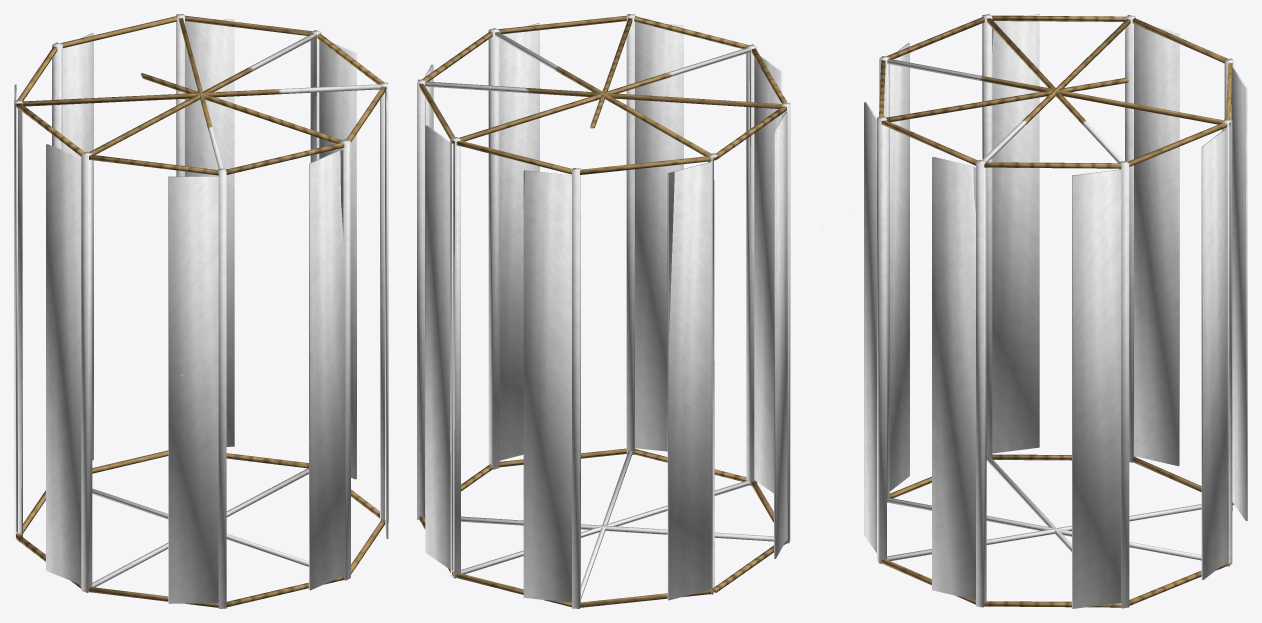
File: windmill.obj
3 views of the same model, side by side, from view 1: azimuth 30°, elevation 25°; view 2: azimuth 150°, elevation 25°; view 3: azimuth 270°, elevation 25° (orthographic).
Parts seen in each view (by area): view 1: objMesh; view 2: objMesh; view 3: objMesh.
Boxes of the visible parts, bbox=[...] form: objMesh: bbox=[14, 14, 388, 608]; objMesh: bbox=[417, 14, 823, 608]; objMesh: bbox=[852, 14, 1247, 608].
Bounding box in the file's own units: 3.89 × 5.12 × 4.01.
